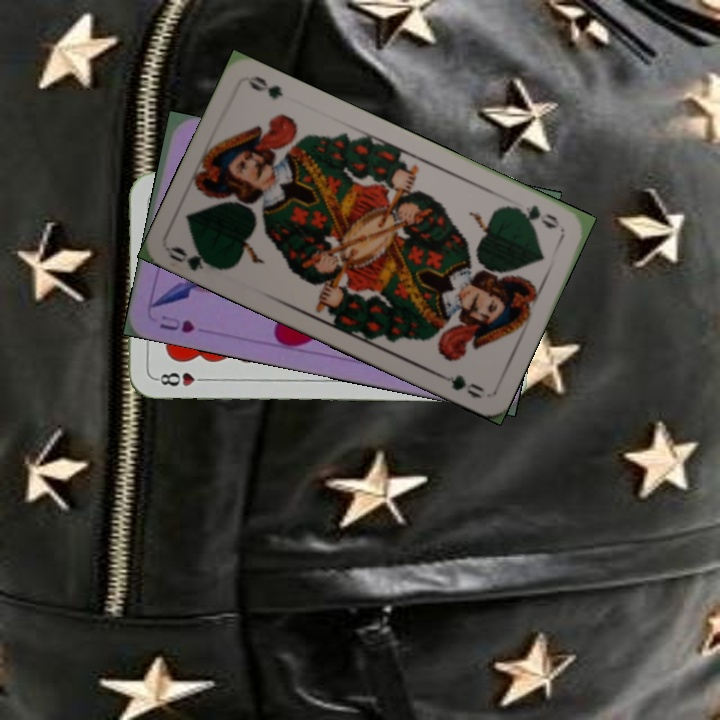GO: (165, 242, 224, 274), (507, 200, 563, 232)
H8: (152, 368, 211, 388)
HU: (155, 311, 197, 336)
